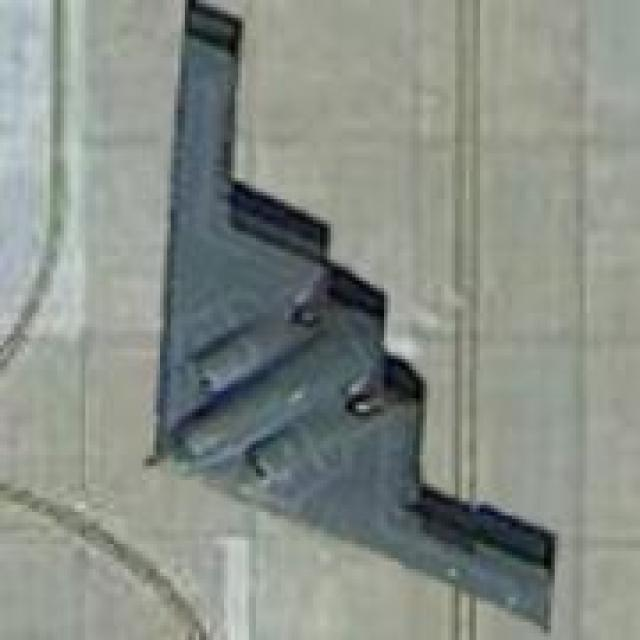B-2_TopDown: (138, 0, 558, 629)
